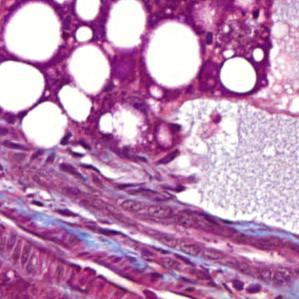steatosis: (1, 1, 67, 61), (145, 21, 204, 88), (24, 102, 69, 150), (220, 55, 259, 94)
